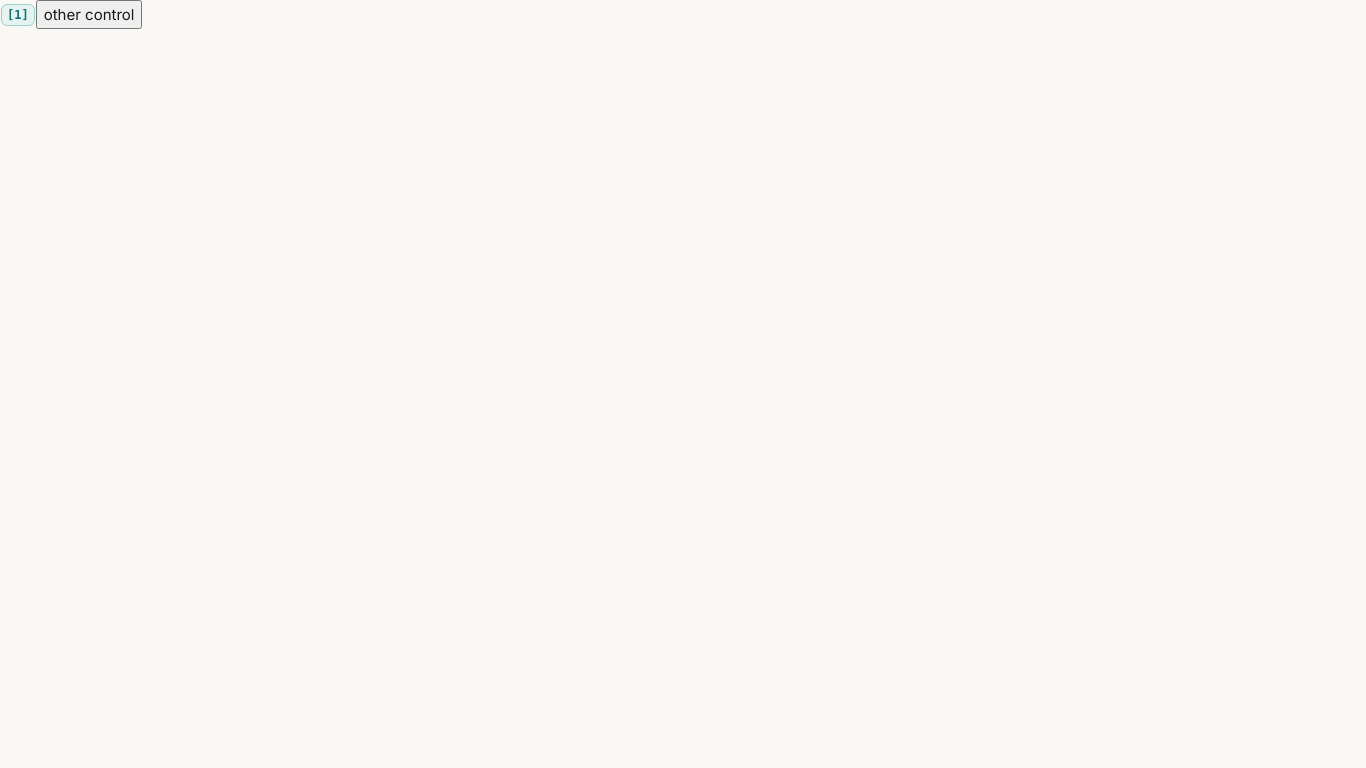
CitationChip -> SourceDrawer › opens a modal dialog with the quoted sentence highlighted in the passage
What coordinates should you click on to do the following:
click the button named "Source 1: SLA and Support Tiers"
I would click on:
 (18, 15)
Its box is [1,4,35,26].
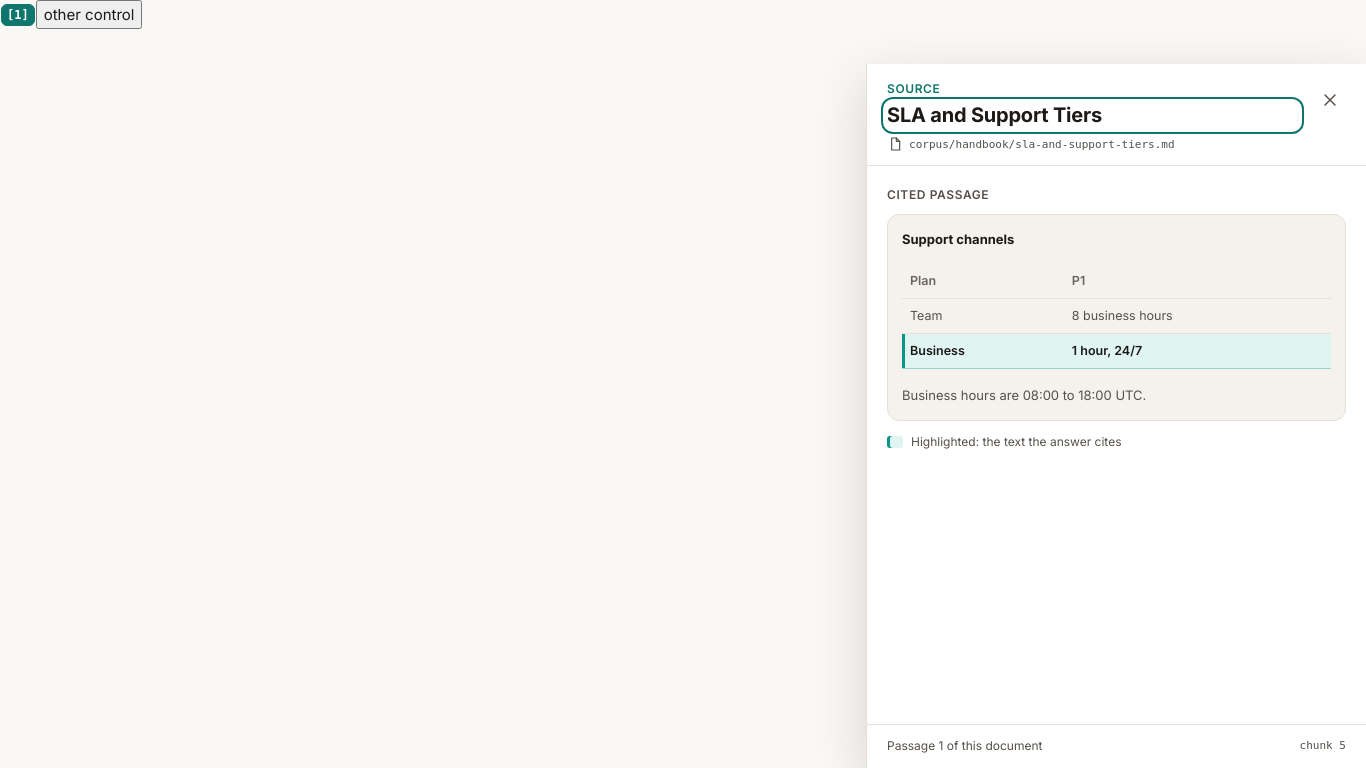
Expected: the text "1 hour, 24/7" is shown, [1072,343,1142,358]
Expected: the text "corpus/handbook/sla-and-support-tiers.md" is shown, [909,136,1175,153]
Expected: the button named "Source 1: SLA and Support Tiers" is expanded, [1,4,35,26]
